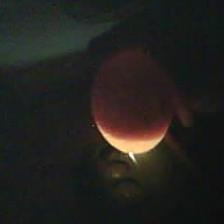fertile: (91, 47, 175, 154)
